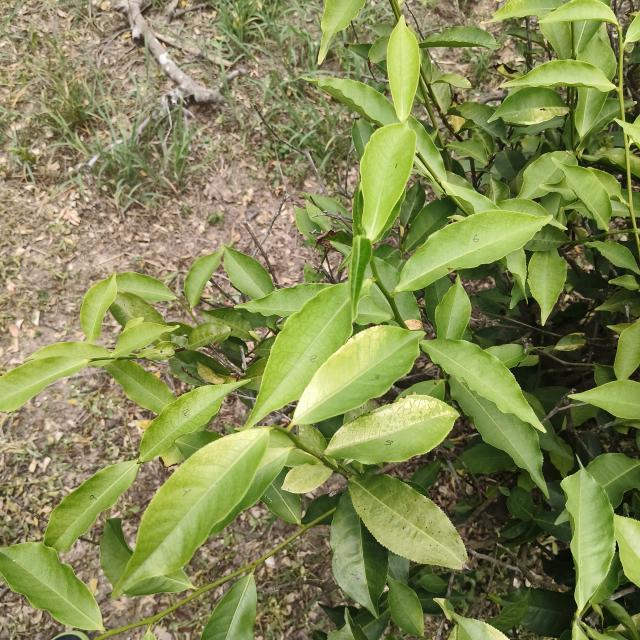Leaf: (113, 428, 271, 597), (246, 284, 352, 428), (392, 210, 551, 295), (294, 325, 422, 424), (450, 376, 547, 495), (349, 473, 467, 569), (421, 339, 544, 431), (325, 396, 458, 464), (0, 543, 103, 629), (44, 460, 139, 552), (140, 381, 245, 461), (561, 468, 615, 612), (330, 491, 388, 617), (360, 123, 416, 243), (0, 356, 88, 411), (306, 78, 398, 126), (501, 59, 614, 93), (104, 360, 175, 414), (201, 574, 257, 640), (387, 14, 420, 121), (561, 165, 612, 229), (236, 284, 333, 316), (488, 87, 569, 125), (317, 0, 365, 64), (435, 598, 508, 640), (586, 453, 640, 509), (528, 249, 567, 325), (222, 244, 275, 299), (518, 151, 577, 199), (404, 198, 456, 252), (569, 380, 640, 419), (521, 589, 575, 637), (80, 272, 117, 342), (111, 322, 178, 358), (435, 276, 471, 340), (261, 467, 301, 524), (448, 101, 506, 140), (184, 249, 222, 308), (100, 518, 133, 585), (387, 577, 424, 636), (577, 26, 616, 81), (348, 235, 372, 320), (109, 292, 167, 327), (540, 0, 618, 25), (574, 88, 611, 140), (585, 241, 640, 275), (419, 26, 500, 49), (116, 272, 176, 302), (485, 0, 562, 23), (487, 591, 529, 632), (129, 569, 192, 596), (461, 443, 515, 474), (201, 307, 253, 339), (26, 341, 111, 360), (614, 319, 640, 380), (282, 463, 332, 493), (539, 20, 574, 59), (399, 181, 426, 230), (188, 321, 231, 349), (494, 149, 526, 182), (447, 139, 487, 164), (459, 187, 497, 213), (484, 344, 525, 368), (294, 206, 323, 239), (507, 486, 533, 521), (506, 247, 526, 292), (431, 73, 471, 88), (418, 573, 447, 593), (447, 183, 458, 197)
